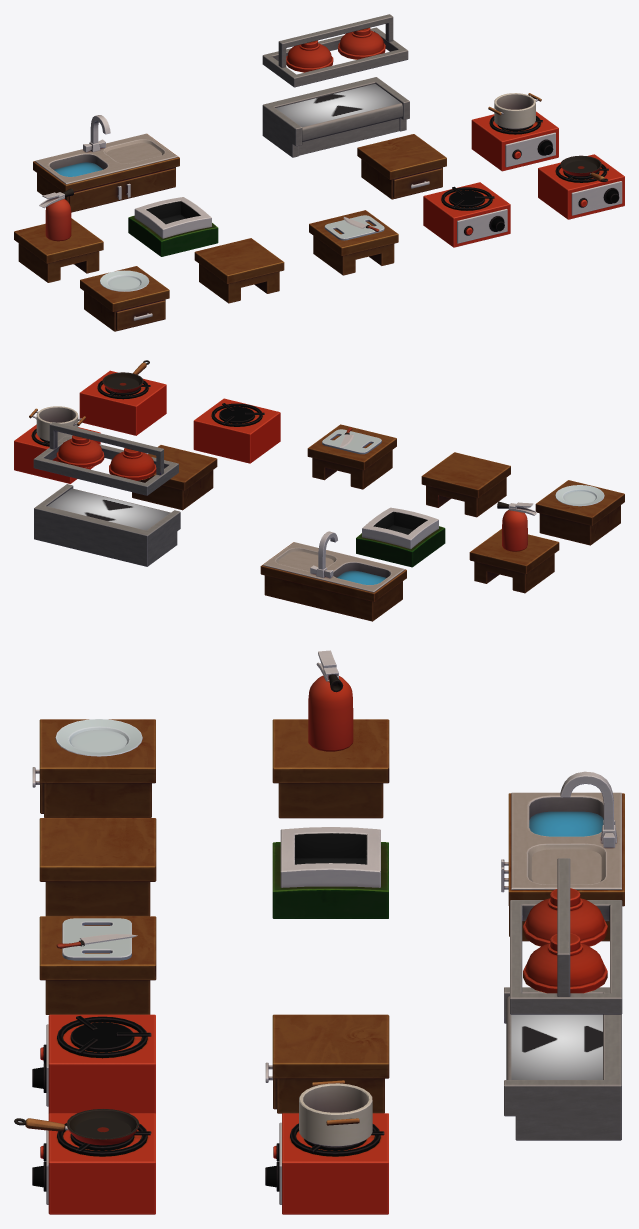
Rendered from kitchen.glb.
3 renders of one model, top to bottom at view 1: azimuth 30°, elevation 25°; view 2: azimuth 150°, elevation 25°; view 3: azimuth 270°, elevation 25°, orthographic. The views are drawn at different scales.
Visible parts, largest first — view 1: service, evier, casserol, anti incendi, poele, feu, assiette, meuble, couteau, comptoir, poubelle; view 2: service, evier, anti incendi, poele, feu, assiette, couteau, comptoir, poubelle, meuble, casserol; view 3: service, casserol, anti incendi, evier, poele, assiette, couteau, comptoir, feu, poubelle, meuble.
Part boxes in pixels (left/top/right/bottom): service: left=262, top=14, right=409, bottom=157; evier: left=33, top=115, right=179, bottom=212; casserol: left=471, top=93, right=558, bottom=171; anti incendi: left=14, top=188, right=103, bottom=282; poele: left=538, top=154, right=624, bottom=219; feu: left=423, top=182, right=510, bottom=247; assiette: left=80, top=266, right=169, bottom=331; meuble: left=357, top=134, right=446, bottom=199; couteau: left=309, top=210, right=398, bottom=275; comptoir: left=194, top=238, right=284, bottom=303; poubelle: left=128, top=197, right=218, bottom=256; service: left=33, top=422, right=180, bottom=566; evier: left=260, top=531, right=406, bottom=621; anti incendi: left=469, top=501, right=559, bottom=593; poele: left=79, top=360, right=166, bottom=435; feu: left=193, top=398, right=280, bottom=463; assiette: left=535, top=480, right=624, bottom=545; couteau: left=307, top=424, right=396, bottom=489; comptoir: left=421, top=452, right=510, bottom=517; poubelle: left=356, top=507, right=445, bottom=567; meuble: left=132, top=445, right=217, bottom=510; casserol: left=14, top=406, right=100, bottom=483; service: left=504, top=858, right=622, bottom=1140; casserol: left=265, top=1080, right=388, bottom=1214; anti incendi: left=272, top=650, right=389, bottom=818; evier: left=501, top=771, right=624, bottom=941; poele: left=14, top=1108, right=155, bottom=1214; assiette: left=32, top=719, right=155, bottom=817; couteau: left=39, top=916, right=156, bottom=1014; comptoir: left=39, top=818, right=156, bottom=916; feu: left=32, top=1014, right=155, bottom=1113; poubelle: left=272, top=827, right=388, bottom=918; meuble: left=265, top=1014, right=389, bottom=1113.
Size of the model in its own units: 18 by 3.52 by 10.49.
Materials: 3 (3 with a texture image).
